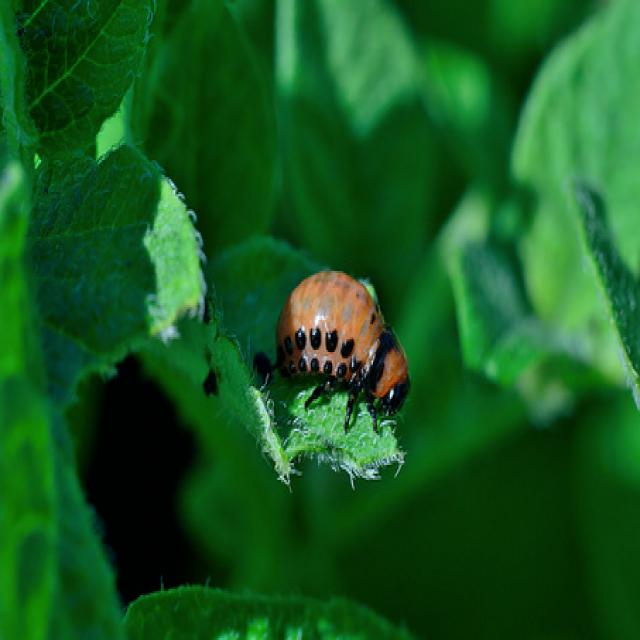ShuCaiHuaBanChong-Larva-: (253, 244, 434, 454)
